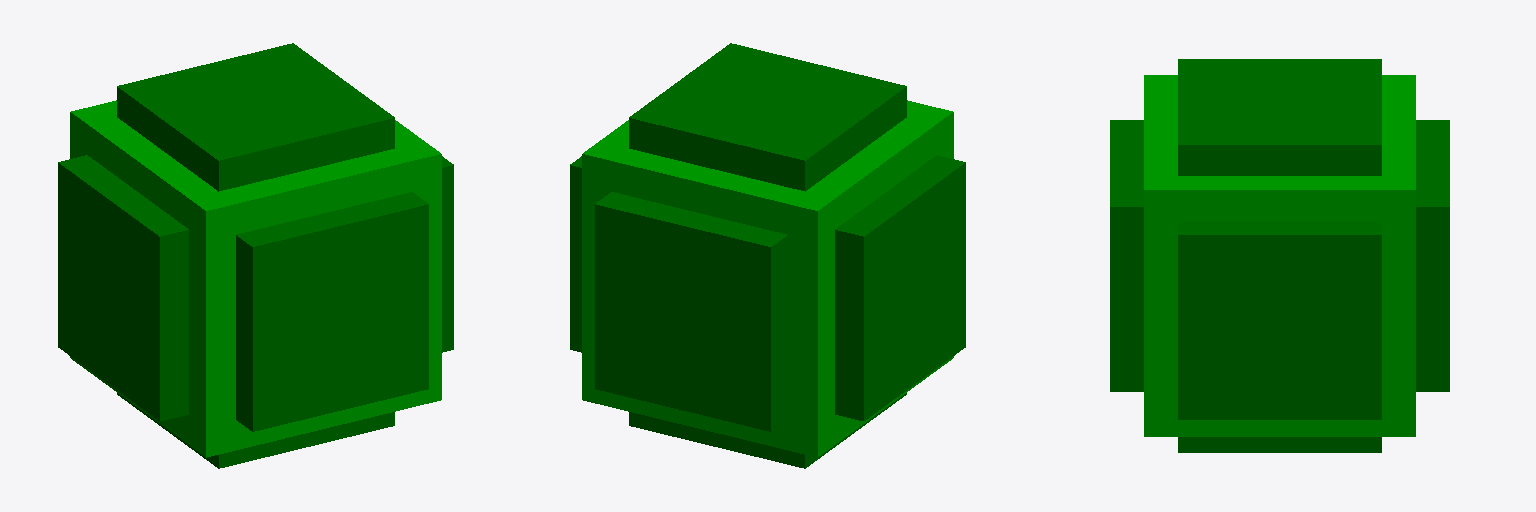
3 renders of one model, left to right at view 1: azimuth 30°, elevation 25°; view 2: azimuth 150°, elevation 25°; view 3: azimuth 270°, elevation 25°, orthographic.
Bounding box in the file's own units: 10 × 10 × 10.
Materials: 1 (1 with a texture image).